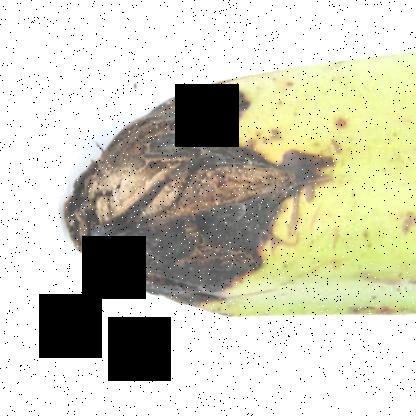rotten: (42, 71, 342, 335)
unripe: (292, 24, 416, 333)
